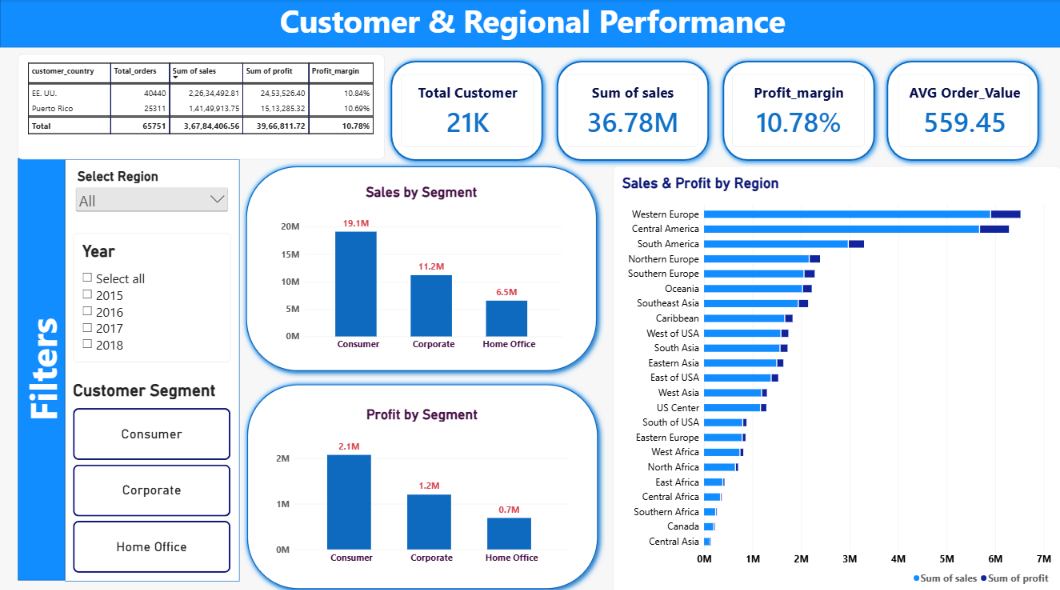

The page's visual inventory and layout, read from the dashboard file:
{"tool":"powerbi","page":{"name":"Customer & Market Analysis","canvas":[1920,1080],"ordinal":1},"visuals":[{"type":"shape","box":[434.3,684.1,660.5,396.3],"z":0},{"type":"shape","box":[432.5,289.5,660.5,396.3],"z":1000},{"type":"shape","box":[32.5,287.8,84.4,763.9],"z":2000},{"type":"shape","box":[116.9,290,316,763.9],"z":3000},{"type":"shape","box":[695,100,300,205],"z":4000},{"type":"shape","box":[0,0,1920,87.5],"z":5000},{"type":"textbox","box":[32.5,0,1862.5,87.5],"z":6000},{"type":"cardVisual","fields":{"Data":["supply_chain customers.Total Customer"]},"box":[725,135,240,132.5],"z":7000},{"type":"shape","box":[995,100,300,205],"z":8000},{"type":"shape","box":[1295,100,300,205],"z":9000},{"type":"shape","box":[1592.8,99.6,300,205],"z":10000},{"type":"cardVisual","fields":{"Data":["Sum(supply_chain order_items.sales)"]},"box":[1025,135,240,132.5],"z":11000},{"type":"cardVisual","fields":{"Data":["supply_chain order_items.Profit_margin"]},"box":[1325,135,240,132.5],"z":12000},{"type":"cardVisual","fields":{"Data":["supply_chain order_items.AVG Order_Value"]},"box":[1625,135,240,132.5],"z":13000},{"type":"clusteredColumnChart","title":"Profit by Segment","fields":{"Category":["supply_chain customers.customer_segment"],"Y":["Sum(supply_chain order_items.profit)"]},"box":[483.2,722.1,561,320.3],"z":14000},{"type":"barChart","title":"Sales & Profit by Region","fields":{"Category":["supply_chain orders.order_region"],"Y":["Sum(supply_chain order_items.sales)","Sum(supply_chain order_items.profit)"]},"box":[1109.3,302.2,810.7,778.2],"z":15000},{"type":"tableEx","fields":{"Values":["supply_chain customers.customer_country","supply_chain customers.Total_orders","Sum(supply_chain order_items.sales)","Sum(supply_chain order_items.profit)","supply_chain order_items.Profit_margin"]},"box":[33.3,100,663.3,190],"z":16000},{"type":"slicer","title":"Order Region","fields":{"Values":["supply_chain orders.order_region"]},"box":[132,305.1,285.7,119],"z":17000},{"type":"advancedSlicerVisual","title":"Customer Segment","fields":{"Values":["supply_chain customers.customer_segment"]},"box":[132,690.4,285.7,348.4],"z":18000},{"type":"listSlicer","fields":{"Values":["supply_chain orders.order_date.Variation.Date Hierarchy.Year"]},"box":[132,424.2,285.7,233.7],"z":19000},{"type":"clusteredColumnChart","title":"Sales by Segment","fields":{"Category":["supply_chain customers.customer_segment"],"Y":["Sum(supply_chain order_items.sales)"]},"box":[492.2,320.3,541.1,336.6],"z":20000}]}

Visuals, with their boxes in screenshot pixels (x1, y1, x2, y2), scaled from the page's 1920x1080 canvas onto the 1060x590 screenshot:
shape: x1=240 y1=374 x2=604 y2=589
shape: x1=239 y1=158 x2=603 y2=375
shape: x1=18 y1=157 x2=65 y2=575
shape: x1=65 y1=158 x2=239 y2=576
shape: x1=384 y1=55 x2=549 y2=167
shape: x1=0 y1=0 x2=1059 y2=48
textbox: x1=18 y1=0 x2=1046 y2=48
cardVisual - supply_chain customers.Total Customer: x1=400 y1=74 x2=533 y2=146
shape: x1=549 y1=55 x2=715 y2=167
shape: x1=715 y1=55 x2=881 y2=167
shape: x1=879 y1=54 x2=1045 y2=166
cardVisual - Sum(supply_chain order_items.sales): x1=566 y1=74 x2=698 y2=146
cardVisual - supply_chain order_items.Profit_margin: x1=732 y1=74 x2=864 y2=146
cardVisual - supply_chain order_items.AVG Order_Value: x1=897 y1=74 x2=1030 y2=146
"Profit by Segment" clusteredColumnChart: x1=267 y1=394 x2=576 y2=569
"Sales & Profit by Region" barChart: x1=612 y1=165 x2=1059 y2=589
tableEx - supply_chain customers.customer_country x supply_chain customers.Total_orders: x1=18 y1=55 x2=385 y2=158
"Order Region" slicer: x1=73 y1=167 x2=231 y2=232
"Customer Segment" advancedSlicerVisual: x1=73 y1=377 x2=231 y2=567
listSlicer - supply_chain orders.order_date.Variation.Date Hierarchy.Year: x1=73 y1=232 x2=231 y2=359
"Sales by Segment" clusteredColumnChart: x1=272 y1=175 x2=570 y2=359
